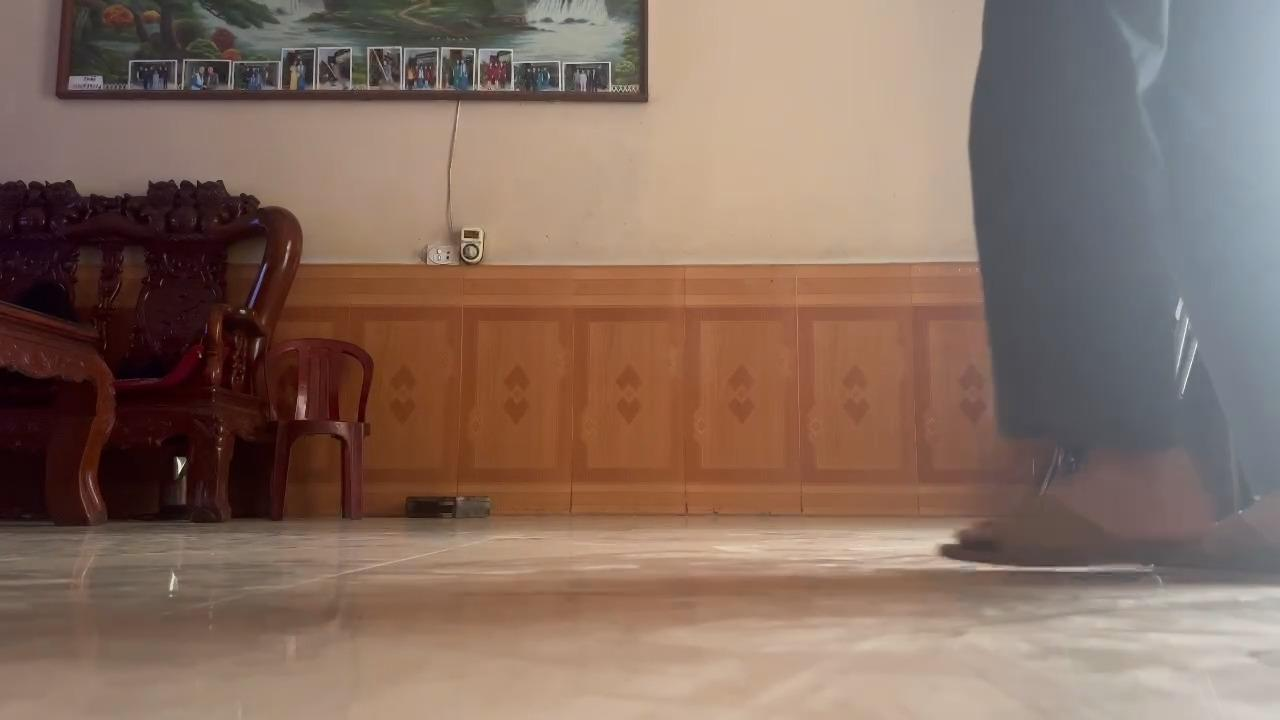no-boot: (933, 492, 1216, 568)
